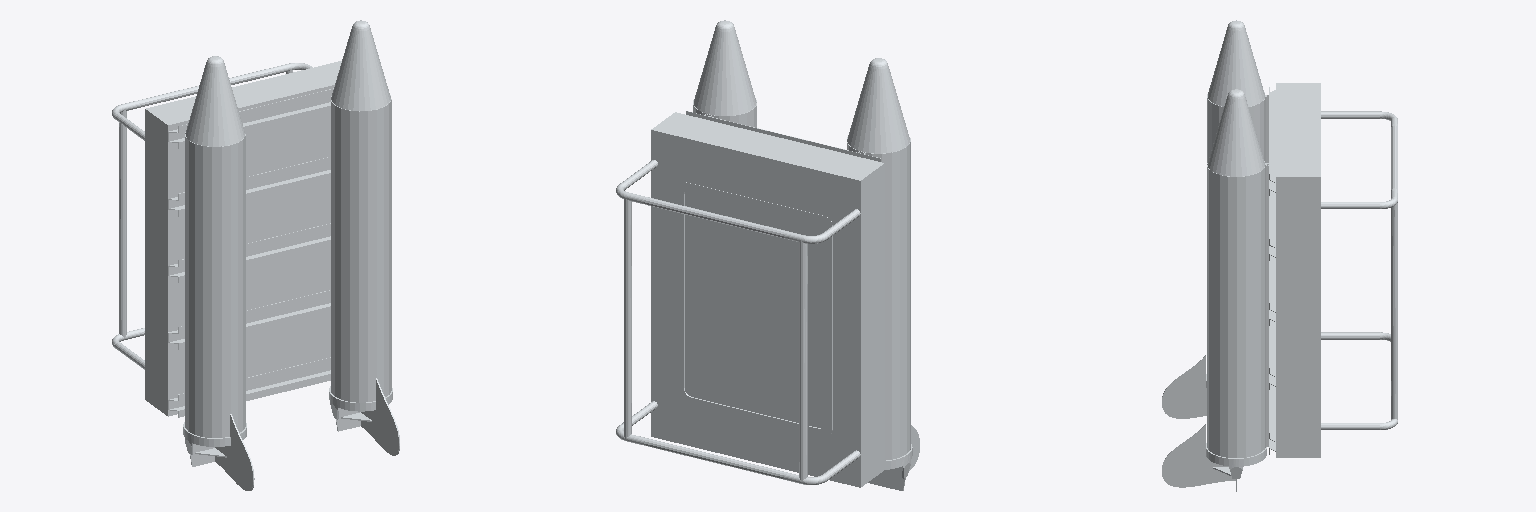
The robot description file, URDF, robot "boat_import":
<?xml version="1.0" encoding="utf-8"?>
<!-- This URDF was automatically created by SolidWorks to URDF Exporter! Originally created by [author] ([email redacted]) 
     Commit Version: 1.6.0-1-g15f4949  Build Version: 1.6.7594.29634
     For more information, please see http://wiki.ros.org/sw_urdf_exporter -->
<robot
  name="boat_import">
  <link
    name="Boathouse_sim">
    <inertial>
      <origin
        xyz="-0.00158073390560165 -0.0354852572635334 0.0098574311064642"
        rpy="0 0 0" />
      <mass
        value="32.7447985674436" />
      <inertia
        ixx="2.66652976082671"
        ixy="0.00243273566266003"
        ixz="-0.000301365146301424"
        iyy="3.7311837293143"
        iyz="-0.00316536817799663"
        izz="1.22211711559118" />
    </inertial>
    <visual>
      <origin
        xyz="0 0 0"
        rpy="0 0 0" />
      <geometry>
        <mesh
          filename="package://boat_import/meshes/Boathouse_sim.STL" />
      </geometry>
      <material
        name="">
        <color
          rgba="0.894117647058823 0.913725490196078 0.929411764705882 1" />
      </material>
    </visual>
    <collision>
      <origin
        xyz="0 0 0"
        rpy="0 0 0" />
      <geometry>
        <mesh
          filename="package://boat_import/meshes/Boathouse_sim.STL" />
      </geometry>
    </collision>
  </link>
</robot>

--- Facts derived from the render (not from the file) ---
The picture shows the robot from 3 angles, left to right: view 1: azimuth 30°, elevation 25°; view 2: azimuth 150°, elevation 25°; view 3: azimuth 270°, elevation 25°; orthographic projection.
Model boat_import with 1 links and 0 joints (none), rooted at Boathouse_sim, posed every joint at zero.
Links seen in each view (by area): view 1: Boathouse_sim; view 2: Boathouse_sim; view 3: Boathouse_sim.
Boxes of the visible links, x1=… form: Boathouse_sim: x1=112, y1=20, x2=399, y2=490; Boathouse_sim: x1=616, y1=20, x2=919, y2=490; Boathouse_sim: x1=1162, y1=20, x2=1397, y2=491.
Bounding box of the posed robot: 0.7715 × 0.813 × 1.5 m (x, y, z).
1 mesh visuals loaded from 1 distinct referenced files (1 binary STL).